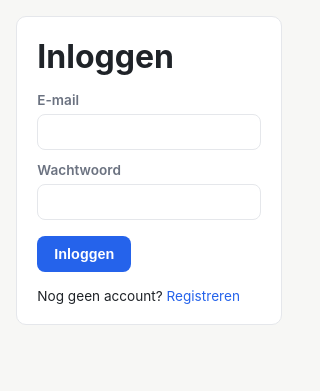
Test: LoginForm › shows an error message when login fails
The width and height of the screenshot is (320, 391).
Click the button "Inloggen". click: click(84, 254)
box: [37,236,131,272]
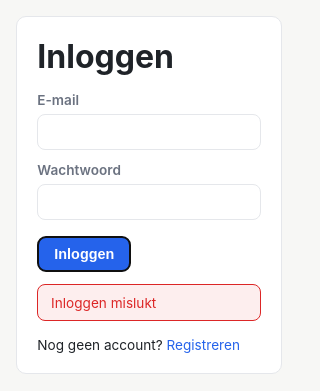
Check: the message reads "Inloggen mislukt", box [51,295,156,311]
